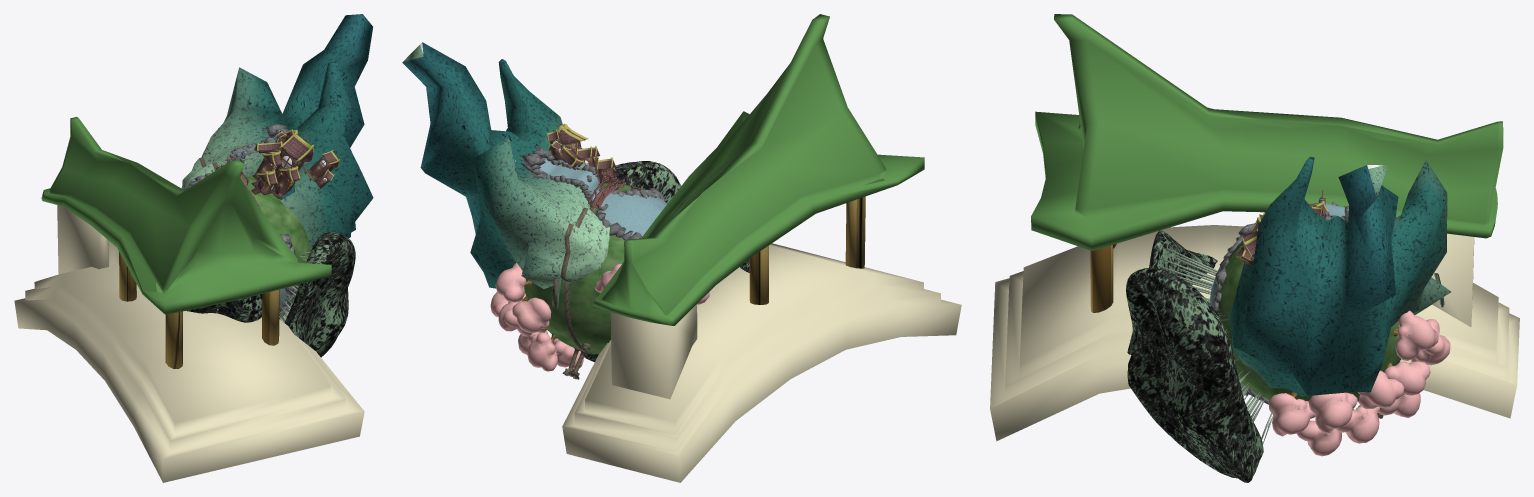
File: 1rplanetaUKE.fbx
3 views of the same model, side by side, from view 1: azimuth 30°, elevation 25°; view 2: azimuth 150°, elevation 25°; view 3: azimuth 270°, elevation 25° (orthographic). The views are drawn at different scales.
Visible parts, largest first — view 1: Templo 2, camino.002, Cylinder.002, Sphere, templo3, Cylinder.004, templo9, Roca.008, templo4, Sphere.005, camino.001; view 2: Templo 2, camino.002, Sphere.001, camino.001, water, Cylinder.002, Sphere, Roca.008, arbol, camino, arbol.002, Sphere.005 (+3 smaller); view 3: Templo 2, camino.002, Cylinder.002, Sphere, Cylinder.004, arbol.010, arbol.007, arbol.009, arbol.001, arbol.008, arbol.003, Cylinder.003 (+5 smaller).
Part boxes in pixels (<box>): Templo 2: <box>14,117,364,482</box>; camino.002: <box>201,14,373,250</box>; Cylinder.002: <box>284,232,355,357</box>; Sphere: <box>242,176,310,307</box>; templo3: <box>251,151,300,198</box>; Cylinder.004: <box>186,294,262,322</box>; templo9: <box>273,131,314,185</box>; Roca.008: <box>226,124,290,175</box>; templo4: <box>307,150,340,180</box>; Sphere.005: <box>185,172,297,319</box>; camino.001: <box>181,159,214,190</box>; Templo 2: <box>562,14,961,482</box>; camino.002: <box>402,42,600,292</box>; Sphere.001: <box>569,186,642,354</box>; camino.001: <box>565,209,609,282</box>; water: <box>601,193,666,236</box>; Cylinder.002: <box>584,161,680,362</box>; Sphere: <box>524,182,624,350</box>; Roca.008: <box>521,146,600,203</box>; arbol: <box>512,297,551,333</box>; camino: <box>552,184,630,351</box>; arbol.002: <box>527,332,557,371</box>; Sphere.005: <box>594,187,665,240</box>; Templo 2: <box>990,14,1519,441</box>; camino.002: <box>1230,156,1450,396</box>; Cylinder.002: <box>1126,267,1263,482</box>; Sphere: <box>1215,244,1400,401</box>; Cylinder.004: <box>1149,230,1217,285</box>; arbol.010: <box>1393,310,1438,360</box>; arbol.007: <box>1268,392,1315,436</box>; arbol.009: <box>1308,392,1357,432</box>; arbol.001: <box>1384,361,1430,395</box>; arbol.008: <box>1358,370,1404,409</box>; arbol.003: <box>1336,405,1380,443</box>; Cylinder.003: <box>1158,248,1217,300</box>.
Bounding box in the file's own units: 5.31 × 4.3 × 5.24.
